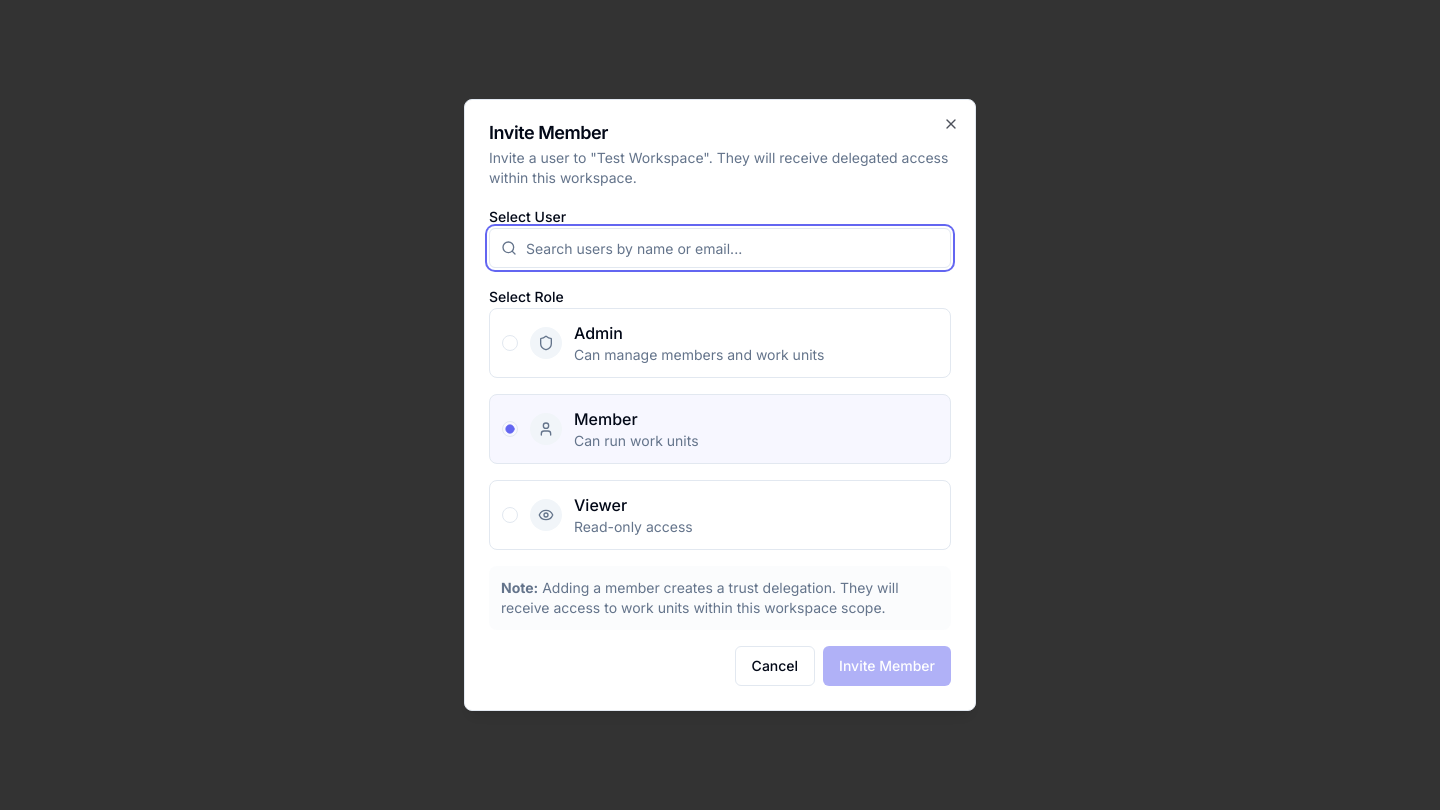
InviteMemberDialog › user list › should display available users
The image size is (1440, 810).
Type to trigger user list display
Type "a" into the field with placeholder "Search users by name or email...".
click(720, 248); type("a")  # box [489,228,951,268]
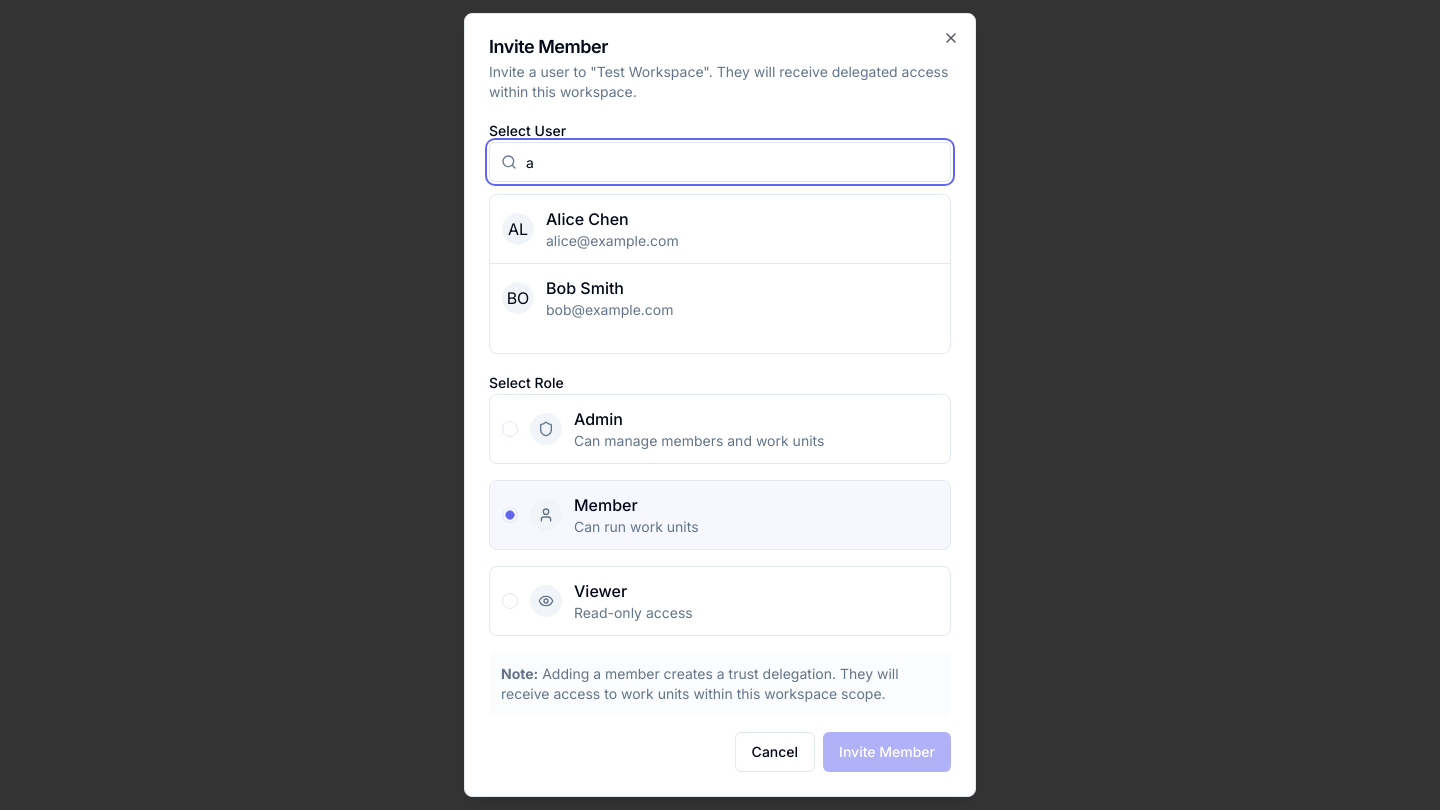
Now the text "Alice Chen" is shown, box [546,209,629,229]
Now the text "Bob Smith" is shown, box [546,278,624,298]
